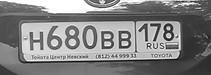license-plateSW: (19, 19, 182, 54)
